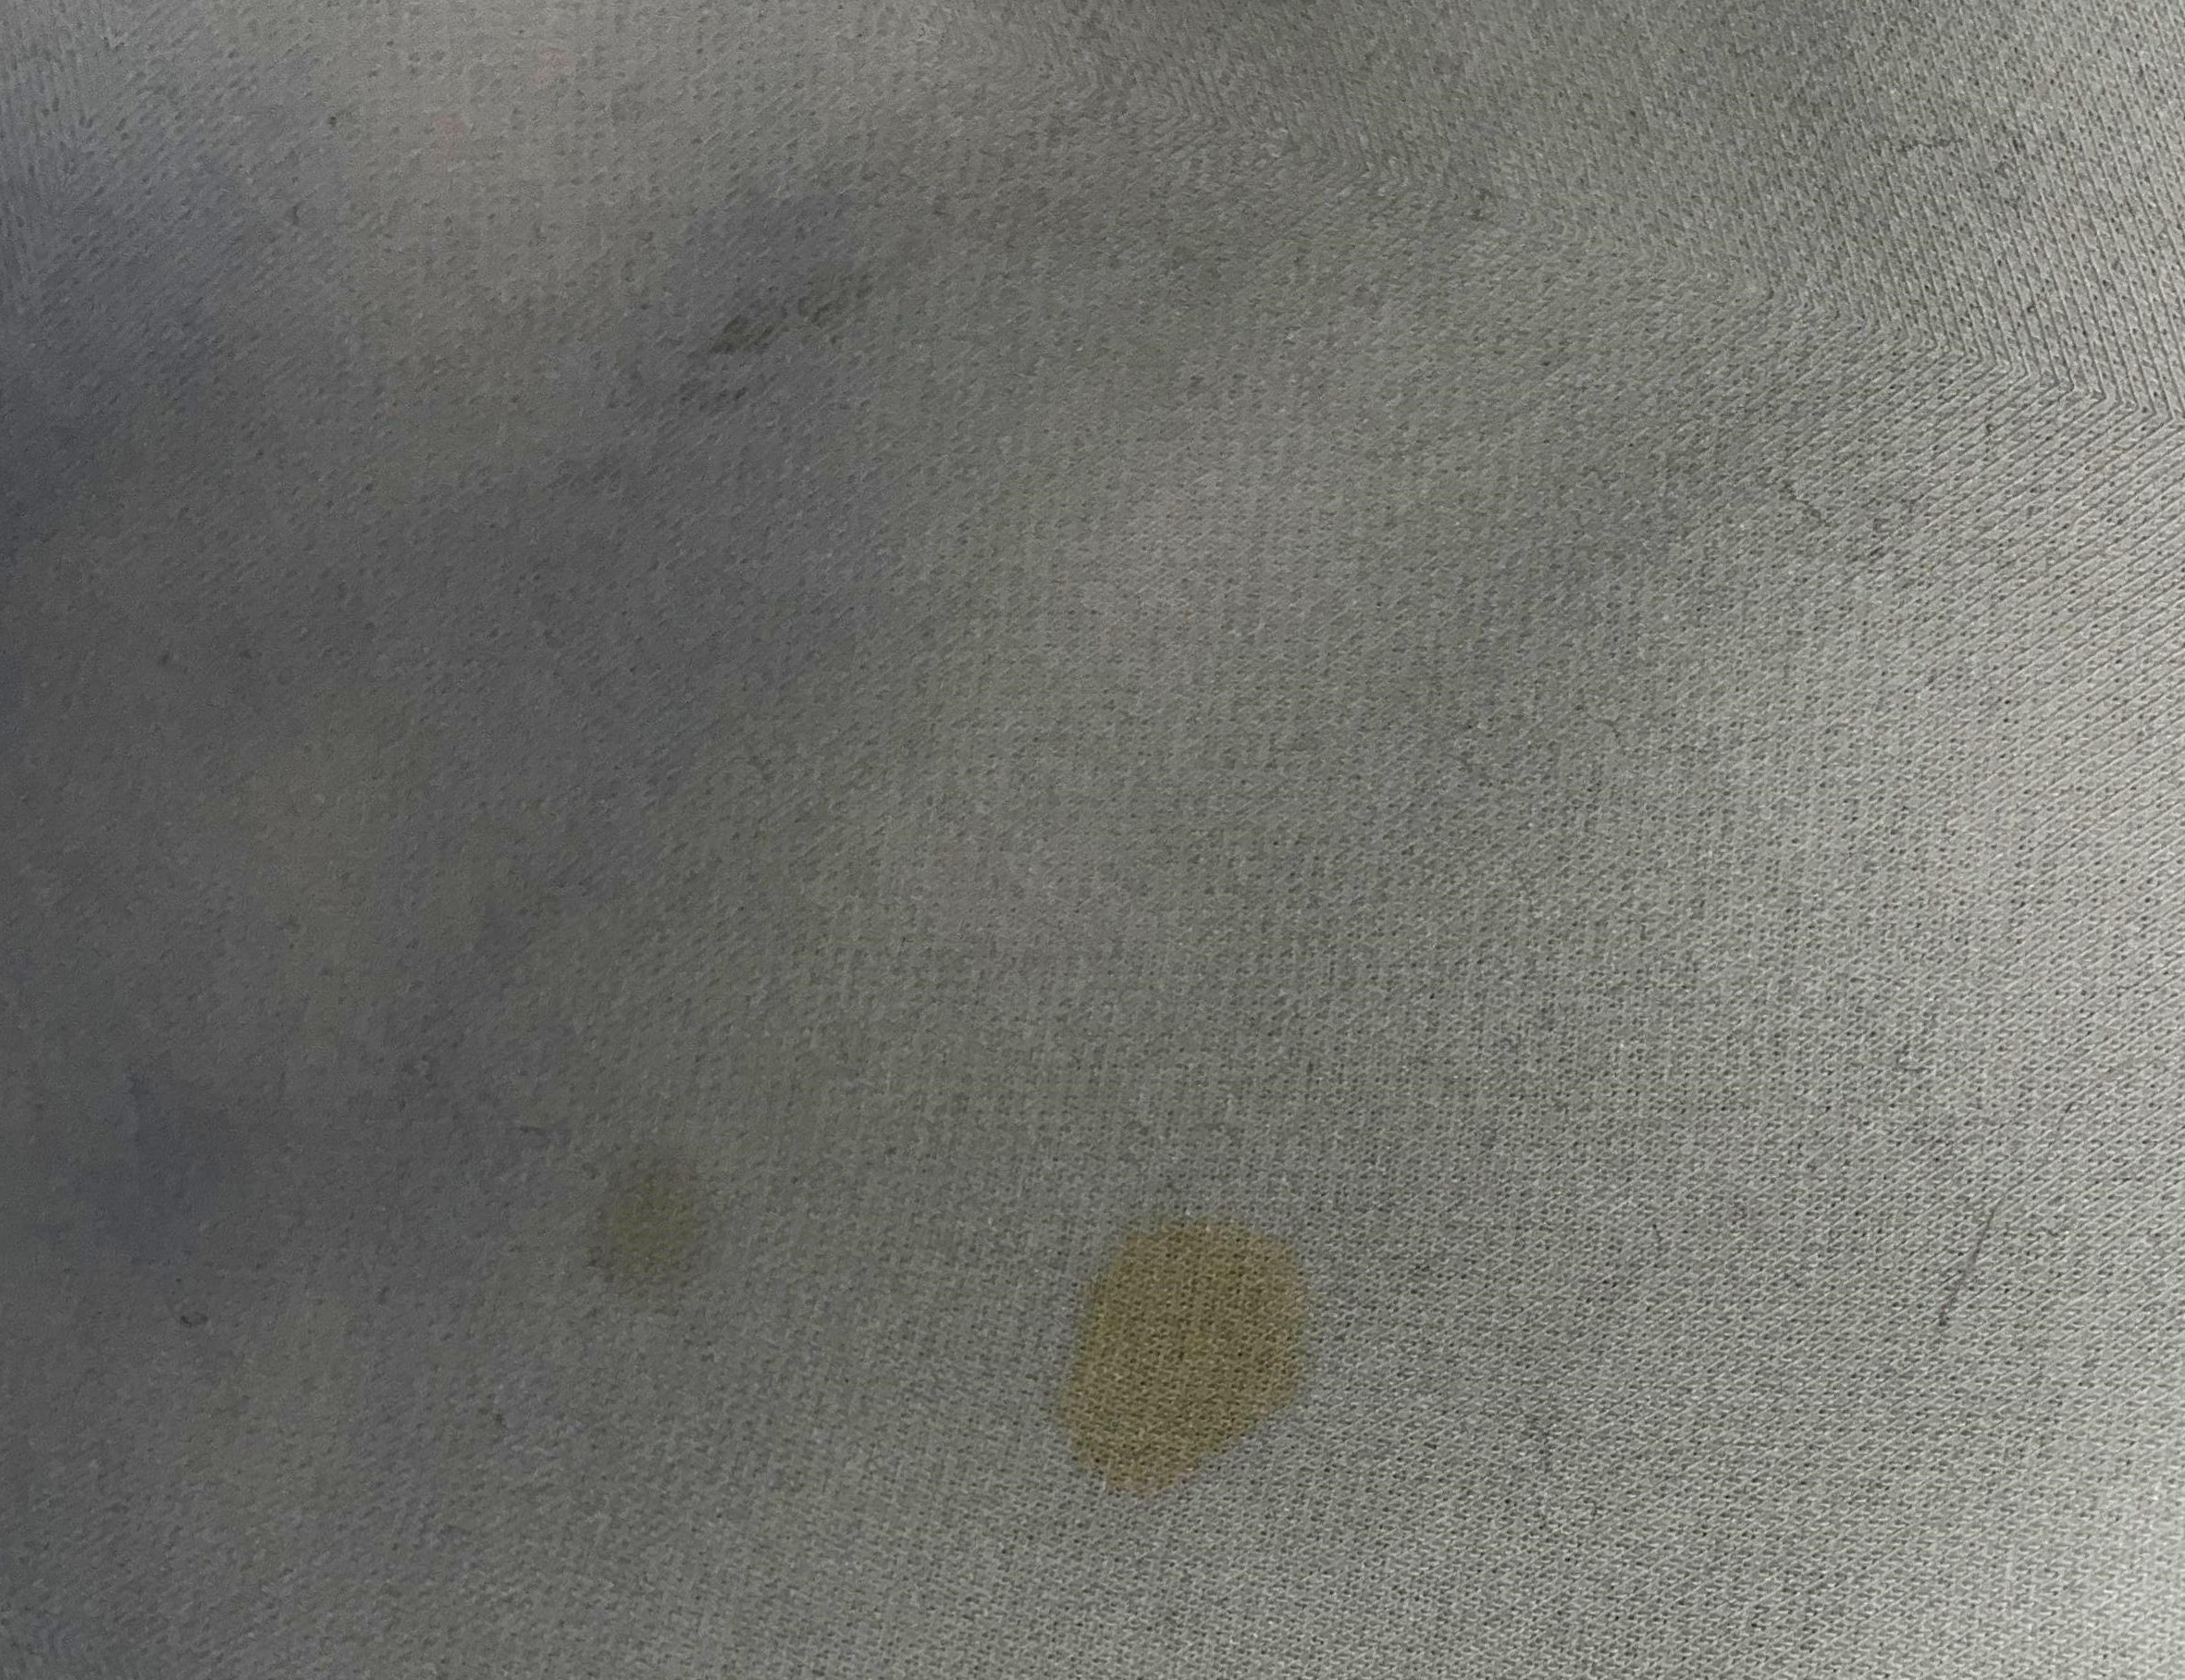stain: (1038, 1195, 1345, 1528), (561, 1117, 743, 1322)
